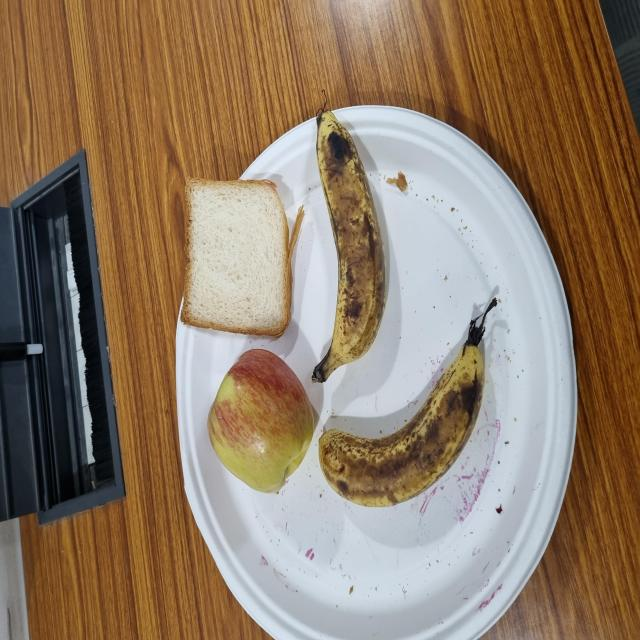apple: (108, 278, 219, 427)
banana: (98, 430, 241, 640), (192, 420, 396, 519)
